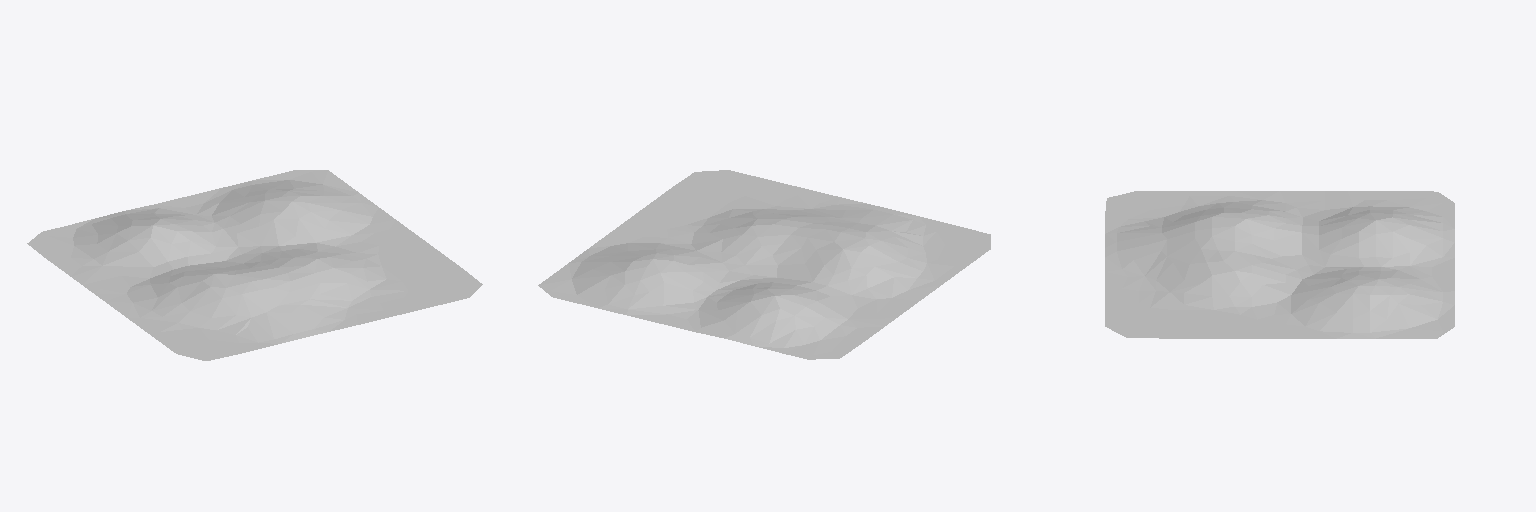
The model's file is SandHill3_BM.obj.
3 views of the same model, side by side, from view 1: azimuth 30°, elevation 25°; view 2: azimuth 150°, elevation 25°; view 3: azimuth 270°, elevation 25° (orthographic).
Parts seen in each view (by area): view 1: Col_Mesh.007; view 2: Col_Mesh.007; view 3: Col_Mesh.007.
Part boxes in pixels (left/top/right/bottom): Col_Mesh.007: left=27, top=170, right=482, bottom=360; Col_Mesh.007: left=538, top=170, right=990, bottom=359; Col_Mesh.007: left=1105, top=191, right=1454, bottom=338.
Bounding box in the file's own units: 10 × 0.5616 × 10.